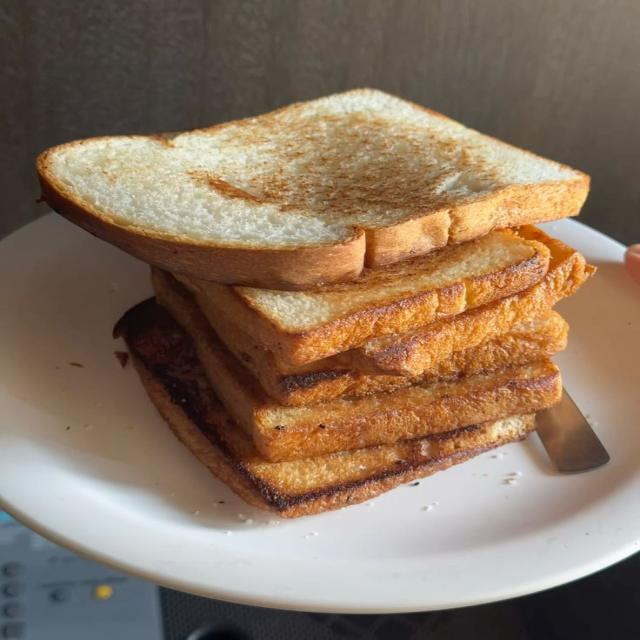toast bread: (38, 90, 588, 289), (119, 316, 533, 517), (158, 279, 561, 461), (181, 231, 545, 363), (338, 231, 594, 375)
